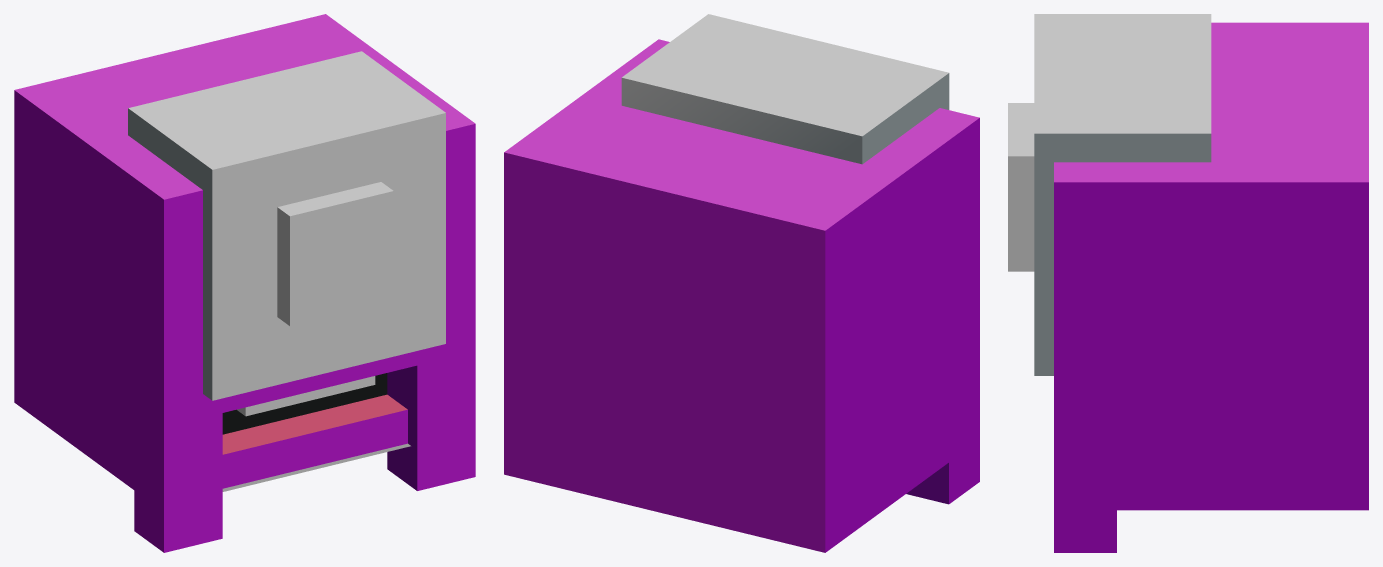
The model's file is EN_SneakyBit_Pink.fbx.
3 renders of one model, left to right at view 1: azimuth 30°, elevation 25°; view 2: azimuth 150°, elevation 25°; view 3: azimuth 270°, elevation 25°, orthographic. The views are drawn at different scales.
Visible parts, largest first — view 1: Body, Eye, Pupil, Mouth, Shadow; view 2: Body, Eye; view 3: Body, Eye, Pupil.
Part boxes in pixels (x1,y1,x2,y2): Body: (14,14,475,552); Eye: (128,51,445,400); Pupil: (277,182,393,325); Mouth: (222,394,407,488); Shadow: (222,443,410,491); Body: (504,39,979,552); Eye: (621,14,949,164); Body: (1054,22,1368,552); Eye: (1034,14,1211,375); Pupil: (1008,103,1034,271).
Bounding box in the file's own units: 48 × 56 × 45.84.
